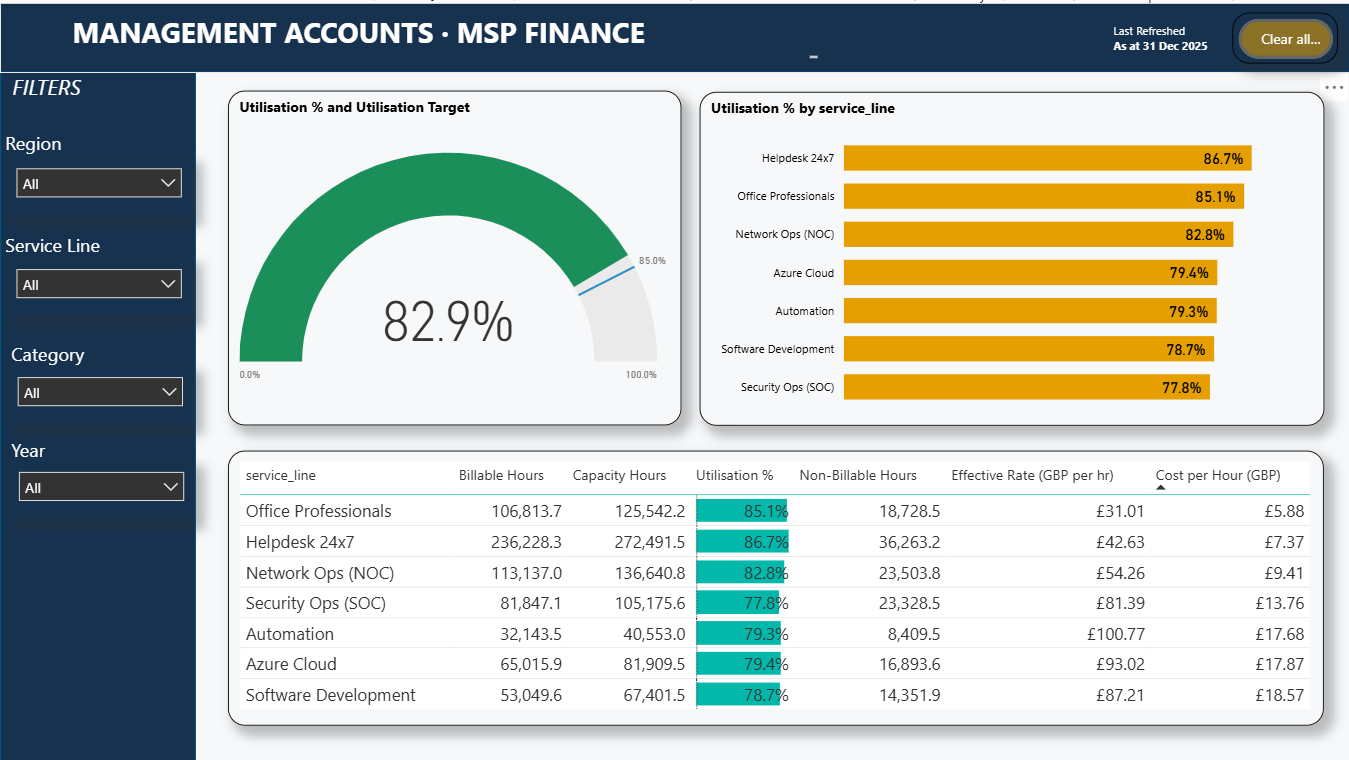

Layout of this report page (visuals, bound fields, positions):
{"tool":"powerbi","page":{"name":"Utilisation & Delivery","canvas":[1280,720],"ordinal":3},"visuals":[{"type":"shape","box":[0,0,216.9,700.1],"z":0,"group":"g1"},{"type":"cardVisual","fields":{"Data":["_Measures.Billable_hr"]},"box":[405.7,67.4,157.3,80.9],"z":0},{"type":"shape","box":[0,0,1280.6,61.9],"z":1000,"group":"g1"},{"type":"cardVisual","fields":{"Data":["_Measures.Capacity_hr"]},"box":[573.1,70.8,157.3,78.7],"z":1000},{"type":"cardVisual","fields":{"Data":["_Measures.Effective Rate (GBP)"]},"box":[741.7,71.9,207.9,77.5],"z":2000},{"type":"textbox","title":"RVS iGlobal · Management Accounts","box":[0,0,718.6,61.3],"z":3000,"group":"g1"},{"type":"cardVisual","fields":{"Data":["_Measures.Utilisation"]},"box":[238.2,67.4,157.3,82],"z":4000},{"type":"lineChart","fields":{"Category":["dim_date.MonthYear"],"Y":["_Measures.Utilisation"],"Y2":["_Measures.Utilisation Target"]},"box":[238.2,166.1,565.8,270.3],"z":5000},{"type":"clusteredColumnChart","fields":{"Category":["dim_date.MonthYear"],"Y":["_Measures.Billable_hr","_Measures.Capacity_hr"]},"box":[812.1,166.1,454.7,270.3],"z":6000},{"type":"tableEx","fields":{"Values":["dim_service.service_line","dim_date.MonthYear","_Measures.Capacity_hr","_Measures.Billable_hr","_Measures.Utilisation","_Measures.Utilisation Target","_Measures.Effective Rate (GBP)","_Measures.Revenue (Allo)"]},"box":[233.7,452.4,1033.2,230.2],"z":7000},{"type":"actionButton","title":"Margin Story","box":[1177.7,5.6,32.3,51.2],"z":8000},{"type":"group","id":"g1","title":"Group 2","box":[0,0,1280.6,700.1],"z":11000},{"type":"pageNavigator","box":[10.1,70.8,196.7,280.9],"z":16000,"group":"g1"}]}

Visuals, with their boxes in screenshot pixels (x1, y1, x2, y2), scaled from the page's 1280x720 canvas onto the 1349x760 screenshot:
shape: pyautogui.locateOnScreen(0, 0, 229, 739)
cardVisual - _Measures.Billable_hr: pyautogui.locateOnScreen(428, 71, 593, 157)
shape: pyautogui.locateOnScreen(0, 0, 1348, 65)
cardVisual - _Measures.Capacity_hr: pyautogui.locateOnScreen(604, 75, 770, 158)
cardVisual - _Measures.Effective Rate (GBP): pyautogui.locateOnScreen(782, 76, 1001, 158)
"RVS iGlobal · Management Accounts" textbox: pyautogui.locateOnScreen(0, 0, 757, 65)
cardVisual - _Measures.Utilisation: pyautogui.locateOnScreen(251, 71, 417, 158)
lineChart - dim_date.MonthYear x _Measures.Utilisation: pyautogui.locateOnScreen(251, 175, 847, 461)
clusteredColumnChart - dim_date.MonthYear x _Measures.Billable_hr: pyautogui.locateOnScreen(856, 175, 1335, 461)
tableEx - dim_service.service_line x dim_date.MonthYear: pyautogui.locateOnScreen(246, 478, 1335, 721)
"Margin Story" actionButton: pyautogui.locateOnScreen(1241, 6, 1275, 60)
"Group 2" group: pyautogui.locateOnScreen(0, 0, 1348, 739)
pageNavigator: pyautogui.locateOnScreen(11, 75, 218, 371)
